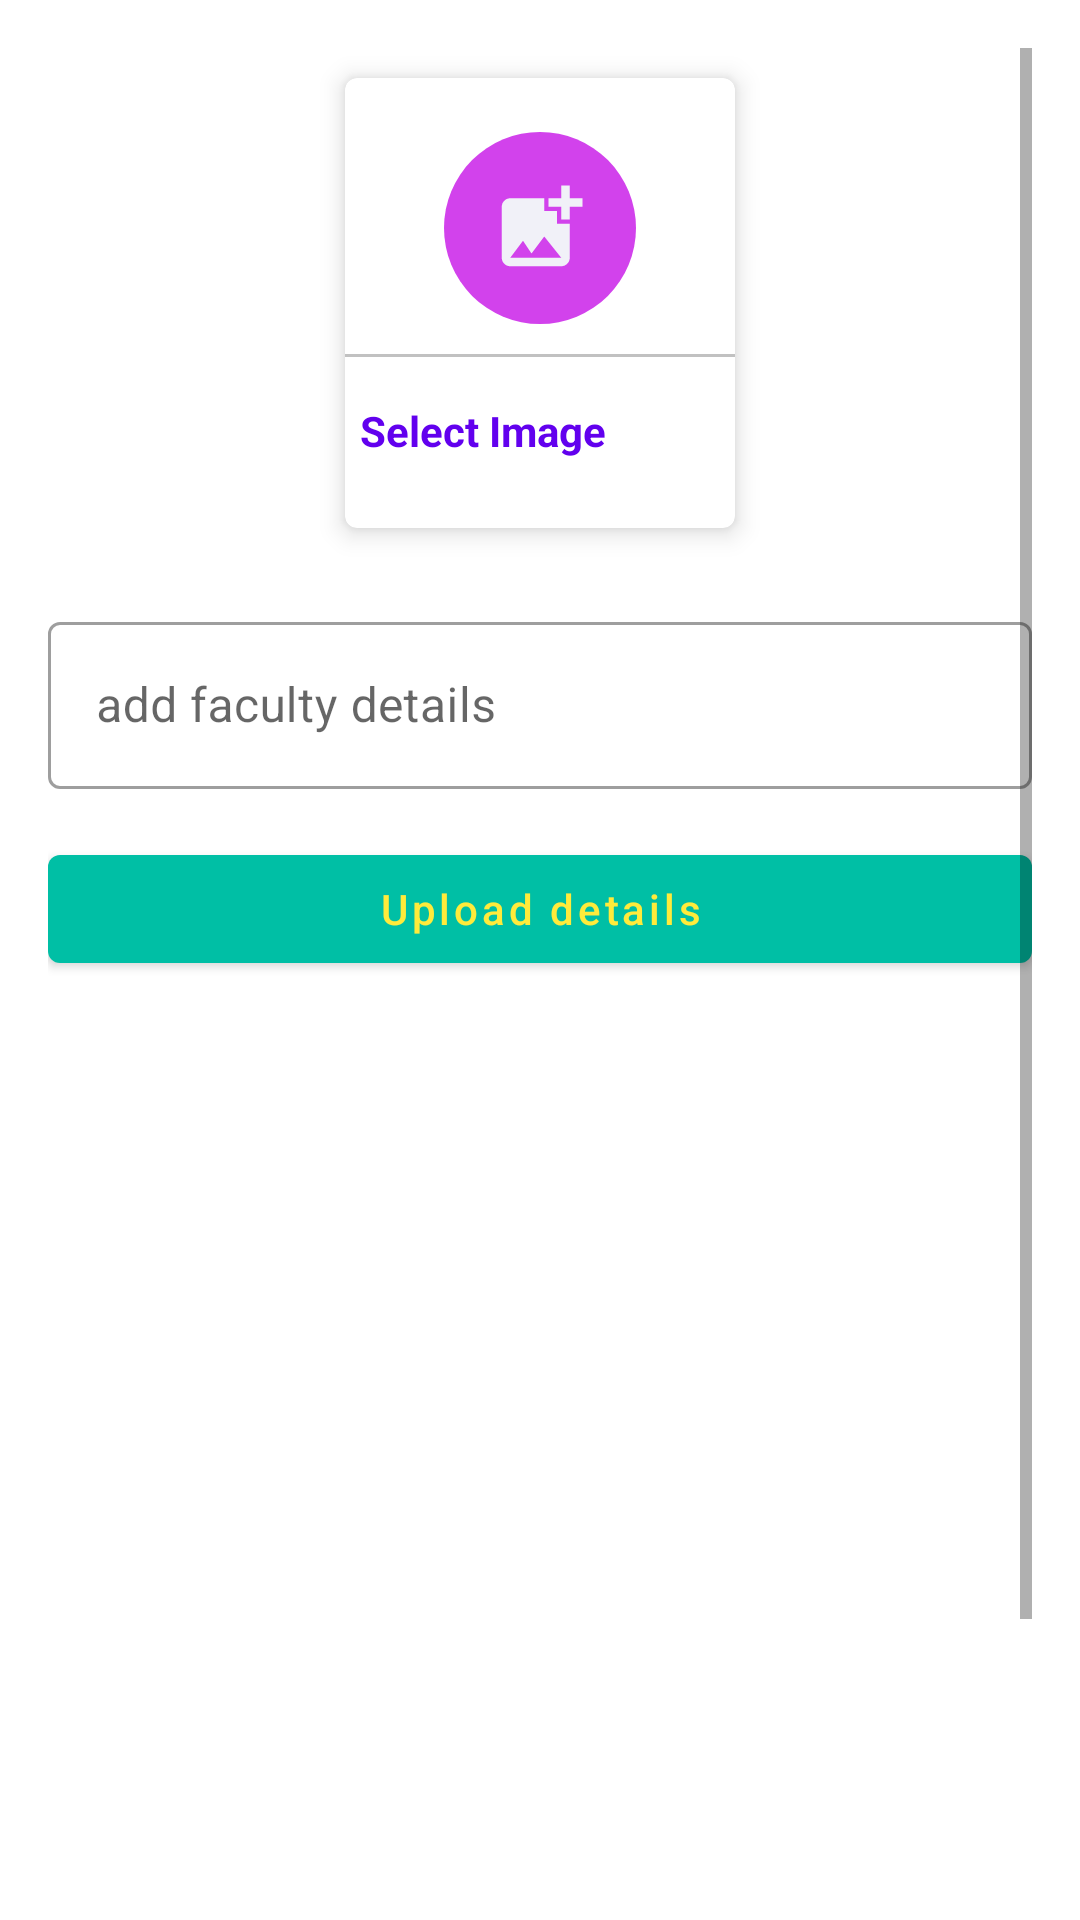

Where icons sit on this 1080w x 1920h app screen, as (x1, y1, x2, y2):
addimage: (444, 132, 636, 324)
